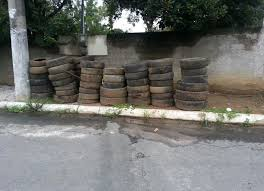tire: (172, 97, 210, 110), (176, 79, 210, 92), (173, 88, 209, 100), (179, 57, 210, 69), (178, 65, 209, 76), (147, 71, 175, 80), (179, 74, 210, 82), (101, 73, 124, 83), (100, 79, 126, 87), (80, 58, 103, 67), (29, 57, 51, 66), (79, 79, 101, 88), (145, 59, 173, 66), (122, 70, 146, 78), (79, 66, 102, 74), (124, 79, 149, 86), (47, 72, 76, 78), (104, 65, 125, 73), (44, 58, 72, 64), (27, 65, 48, 73), (149, 79, 173, 86), (46, 65, 72, 71), (125, 64, 148, 70)
